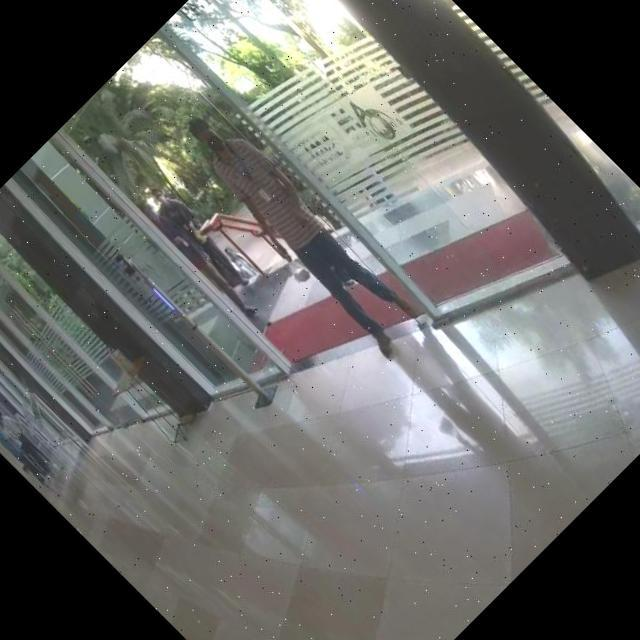person: (168, 96, 430, 358), (134, 195, 261, 322), (141, 176, 256, 291)
